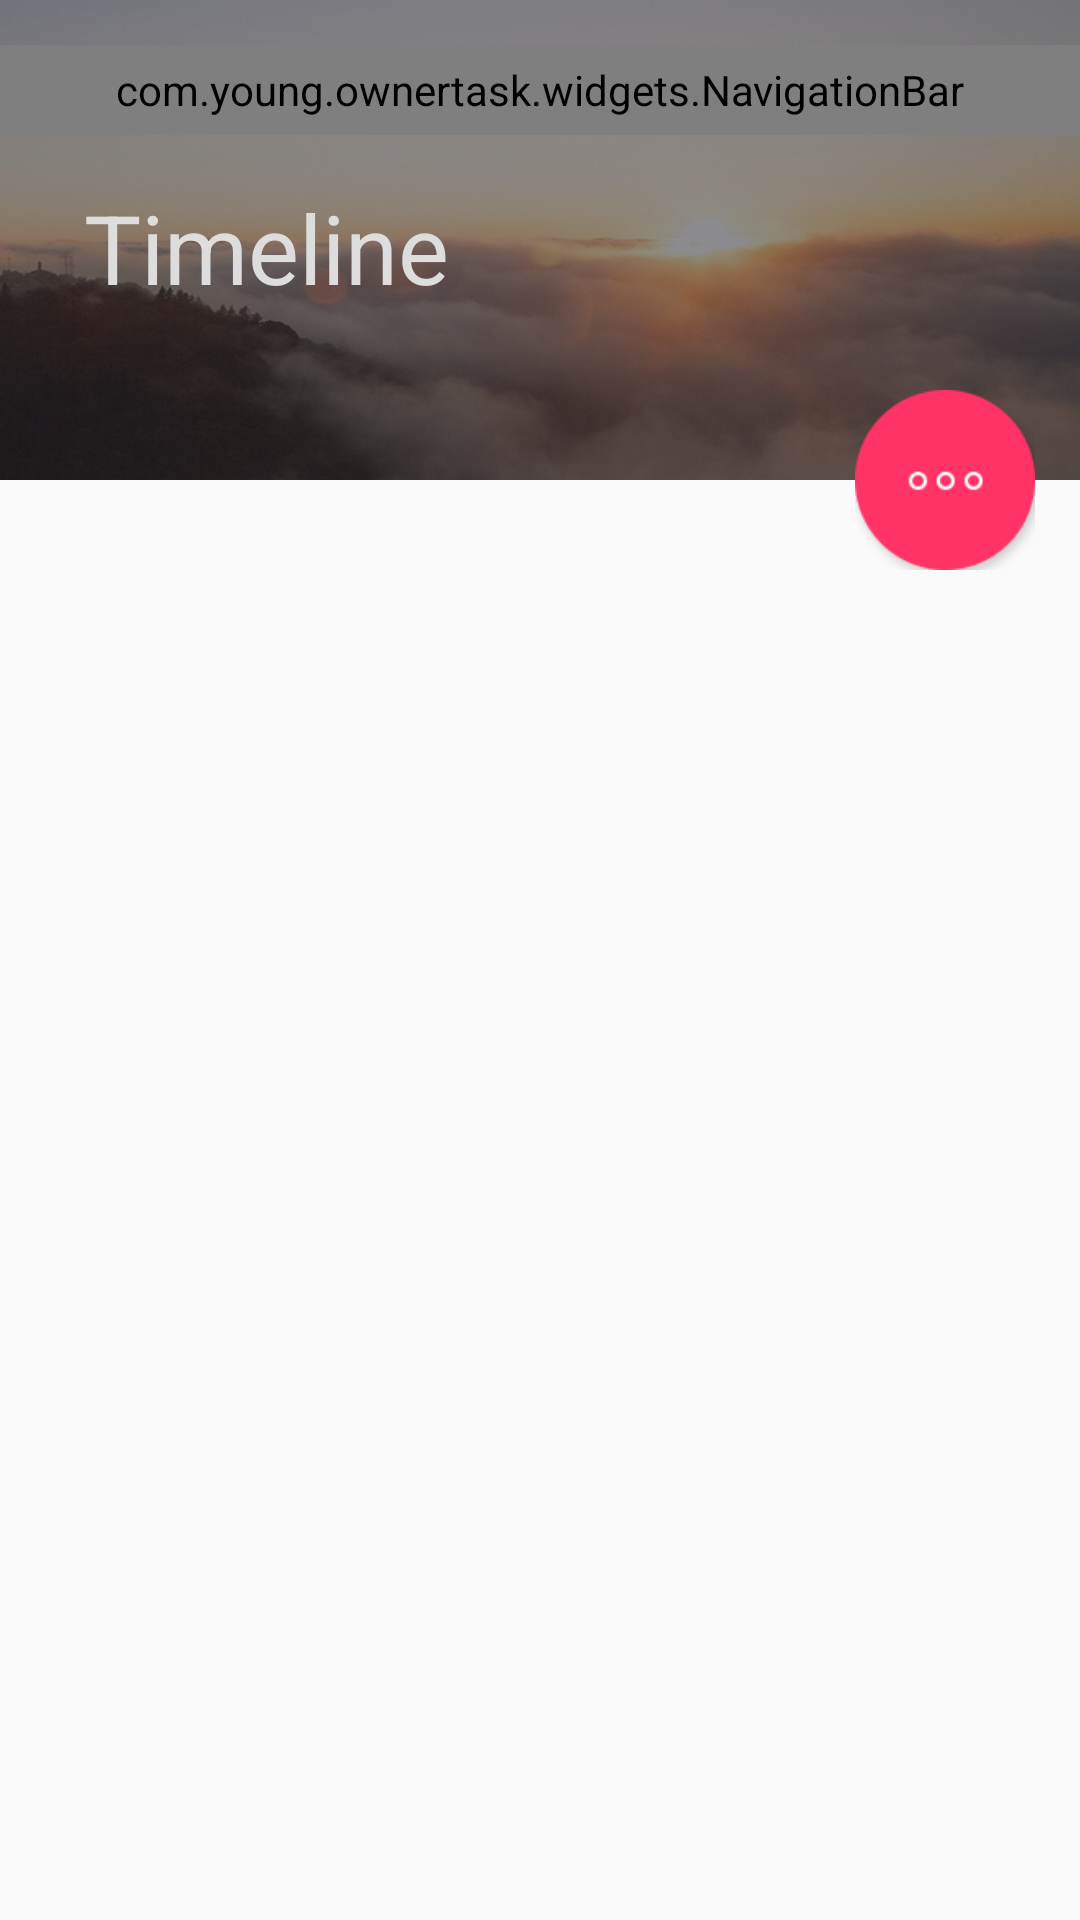

Screen size 1080px×1920px. Icon name, then its center in pixels as point (x, y):
more: point (945, 480)
